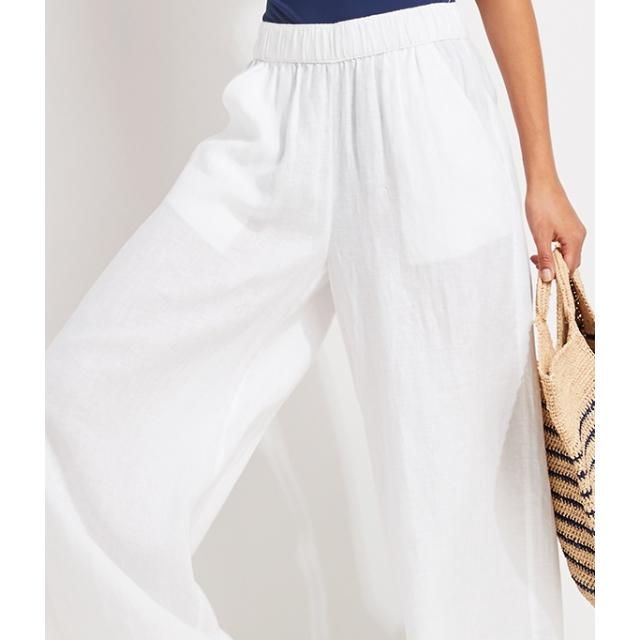linen: (46, 0, 558, 640)
